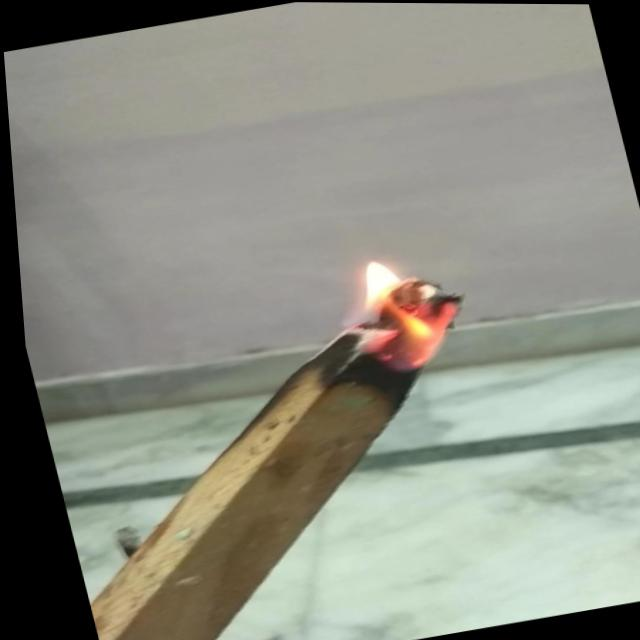fire: (316, 232, 473, 382)
